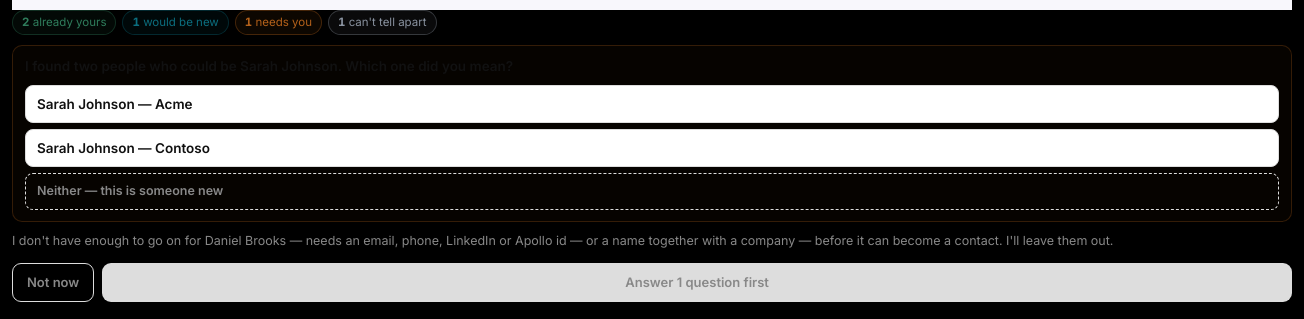
it: resolution_preview turn › answering unblocks approval and reads the choice back
Click the button "Sarah Johnson — Acme": point(86, 104) [25,85,1279,123]
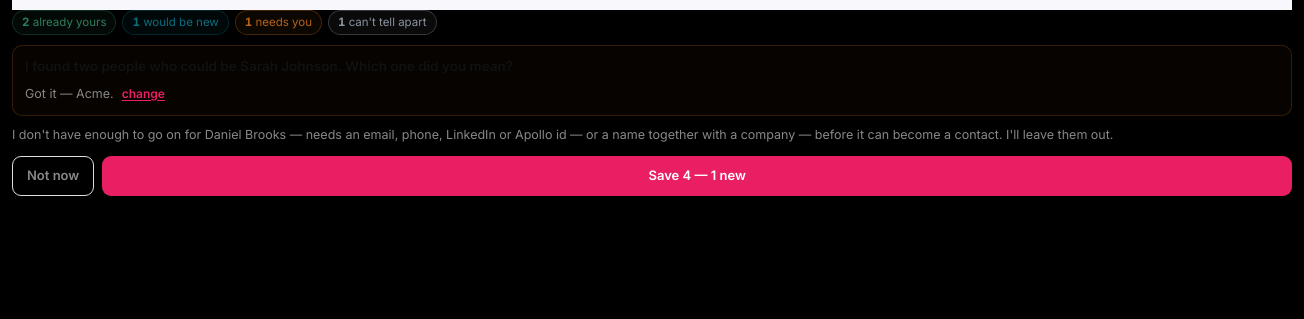
Now the text "Got it — Acme. change" is shown, box [25,85,165,103]
Now the button "Save 4 — 1 new" is enabled, box [102,156,1292,196]
